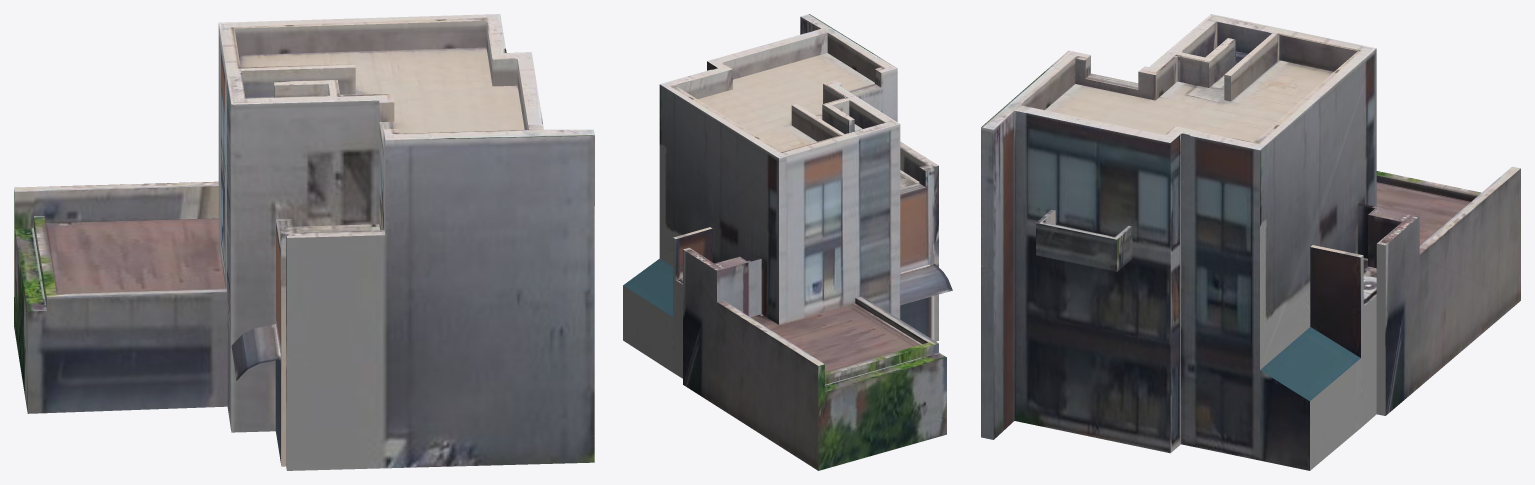
The picture shows the model from 3 angles, left to right: view 1: azimuth 30°, elevation 25°; view 2: azimuth 150°, elevation 25°; view 3: azimuth 270°, elevation 25°; orthographic projection. The views are drawn at different scales.
Parts seen in each view (by area): view 1: B287984032601063A0; view 2: B287984032601063A0; view 3: B287984032601063A0.
Boxes of the visible parts, x1=… form: B287984032601063A0: x1=14, y1=14, x2=594, y2=470; B287984032601063A0: x1=623, y1=14, x2=952, y2=470; B287984032601063A0: x1=981, y1=14, x2=1520, y2=470.
Size of the model in its own units: 17.56 by 12.26 by 19.23.
Materials: 1 (1 with a texture image).
